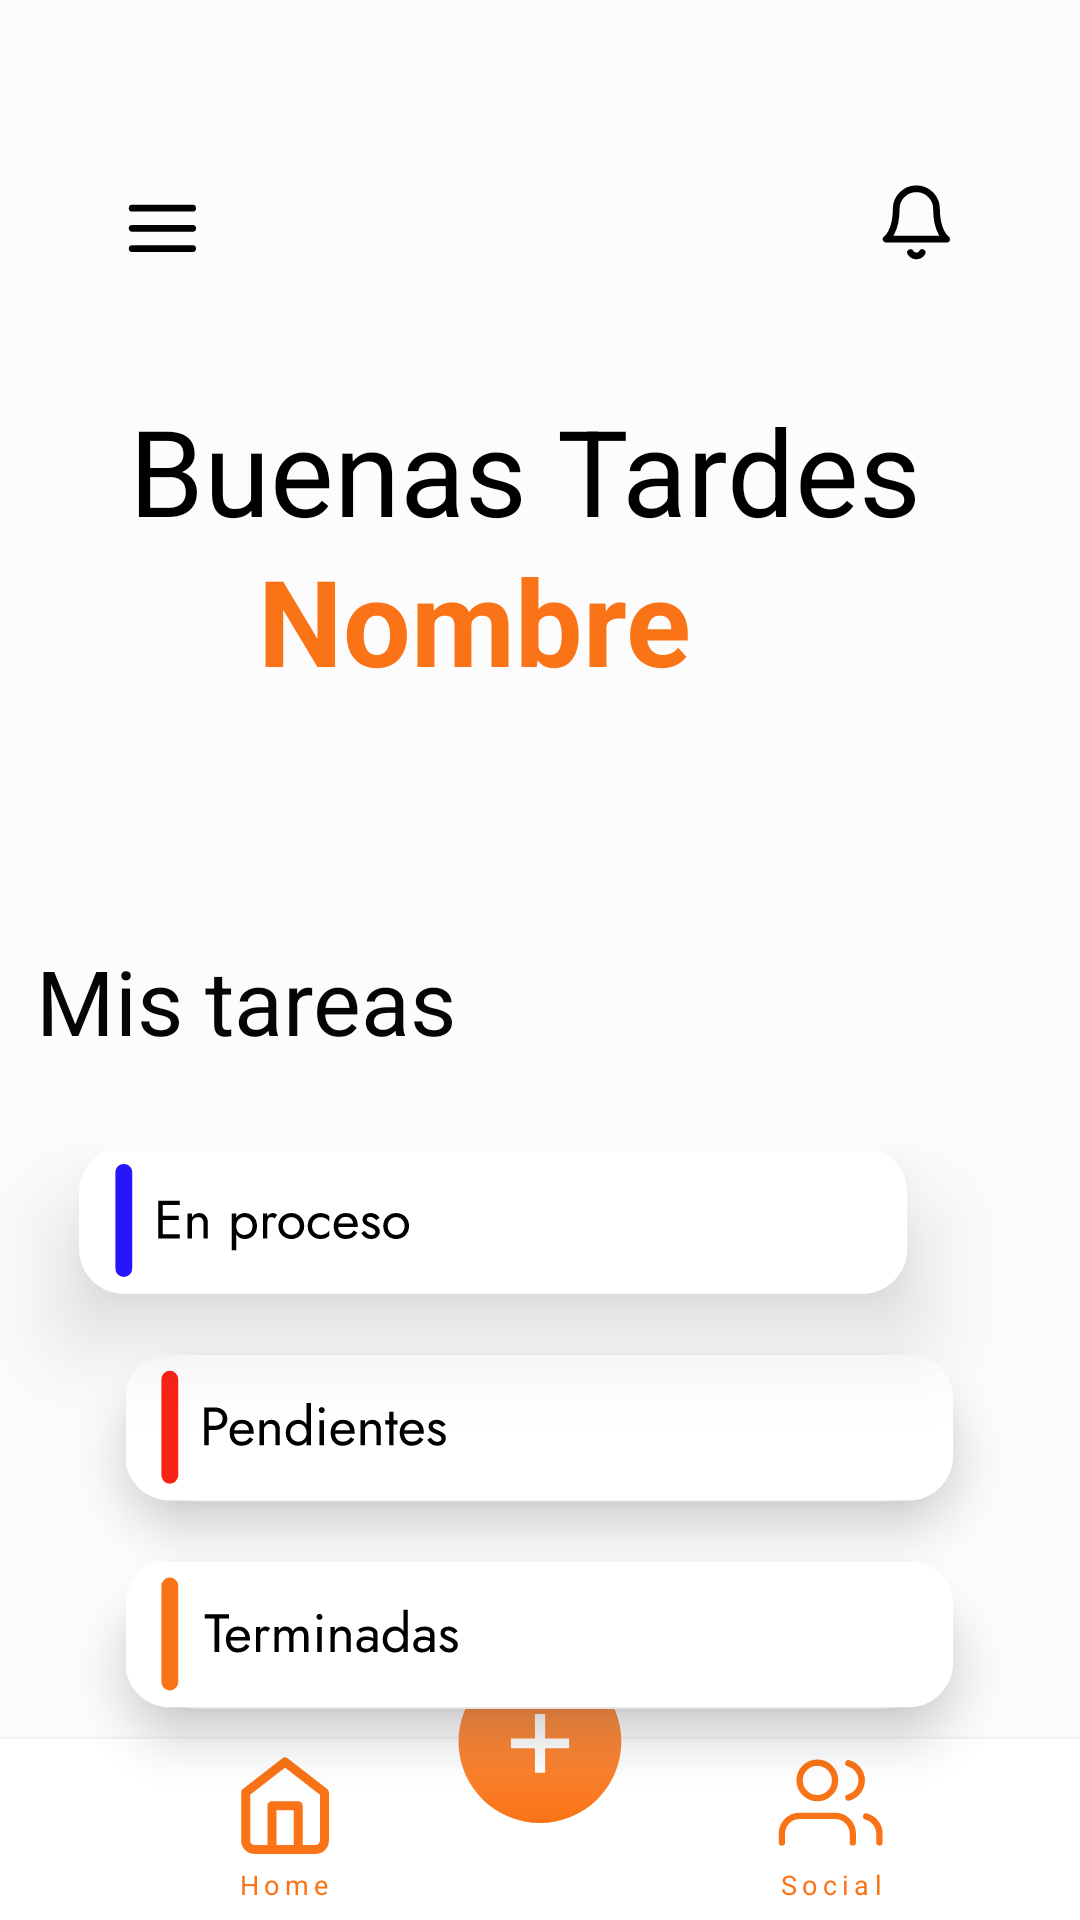

Screen size 1080x1920. Icon name, then its box in pixels as (x1, y1, x2, y2):
circle plus: (458, 1708, 623, 1823)
menu: (128, 204, 196, 252)
notification bell: (882, 185, 950, 260)
